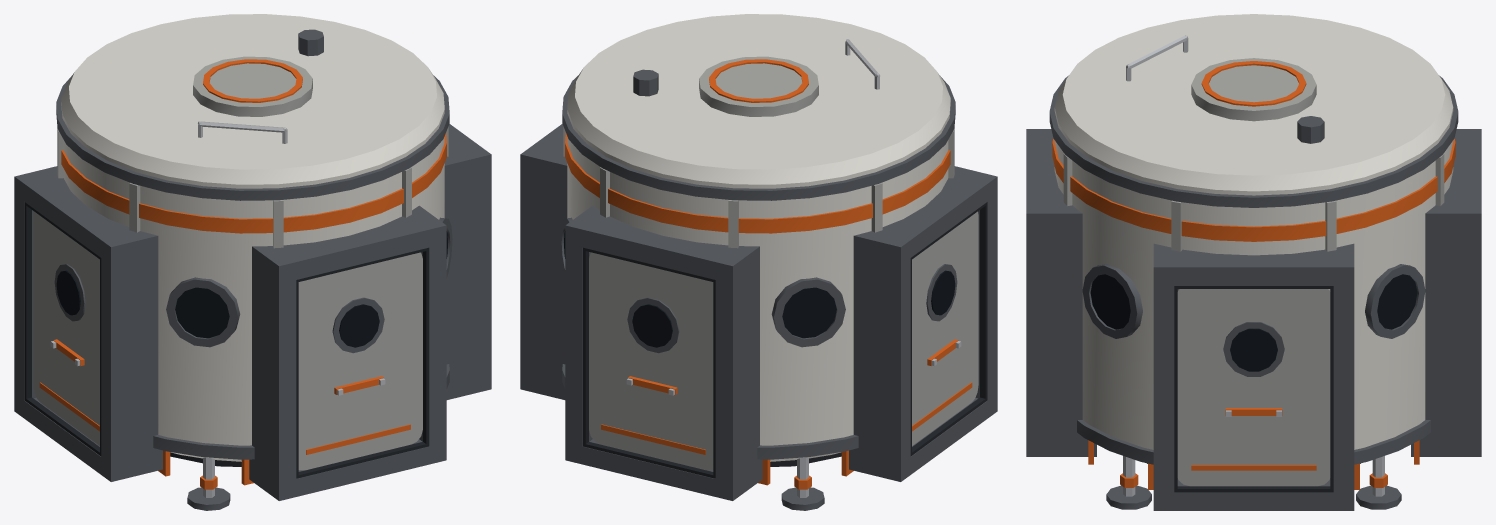
File: hab_small.glb
The picture shows the model from 3 angles, left to right: view 1: azimuth 30°, elevation 25°; view 2: azimuth 150°, elevation 25°; view 3: azimuth 270°, elevation 25°; orthographic projection. The views are drawn at different scales.
Visible parts, largest first — view 1: body, hatch_n, hatch_w; view 2: body, hatch_s, hatch_w; view 3: body, hatch_e.
Part boxes in pixels (bbox=[...]): body: bbox=[14, 14, 491, 510]; hatch_n: bbox=[298, 252, 422, 470]; hatch_w: bbox=[33, 211, 99, 445]; body: bbox=[520, 14, 997, 510]; hatch_s: bbox=[589, 252, 713, 470]; hatch_w: bbox=[912, 211, 978, 445]; body: bbox=[1026, 14, 1481, 510]; hatch_e: bbox=[1177, 289, 1330, 486].
Bounding box in the file's own units: 4 × 3.58 × 4.
